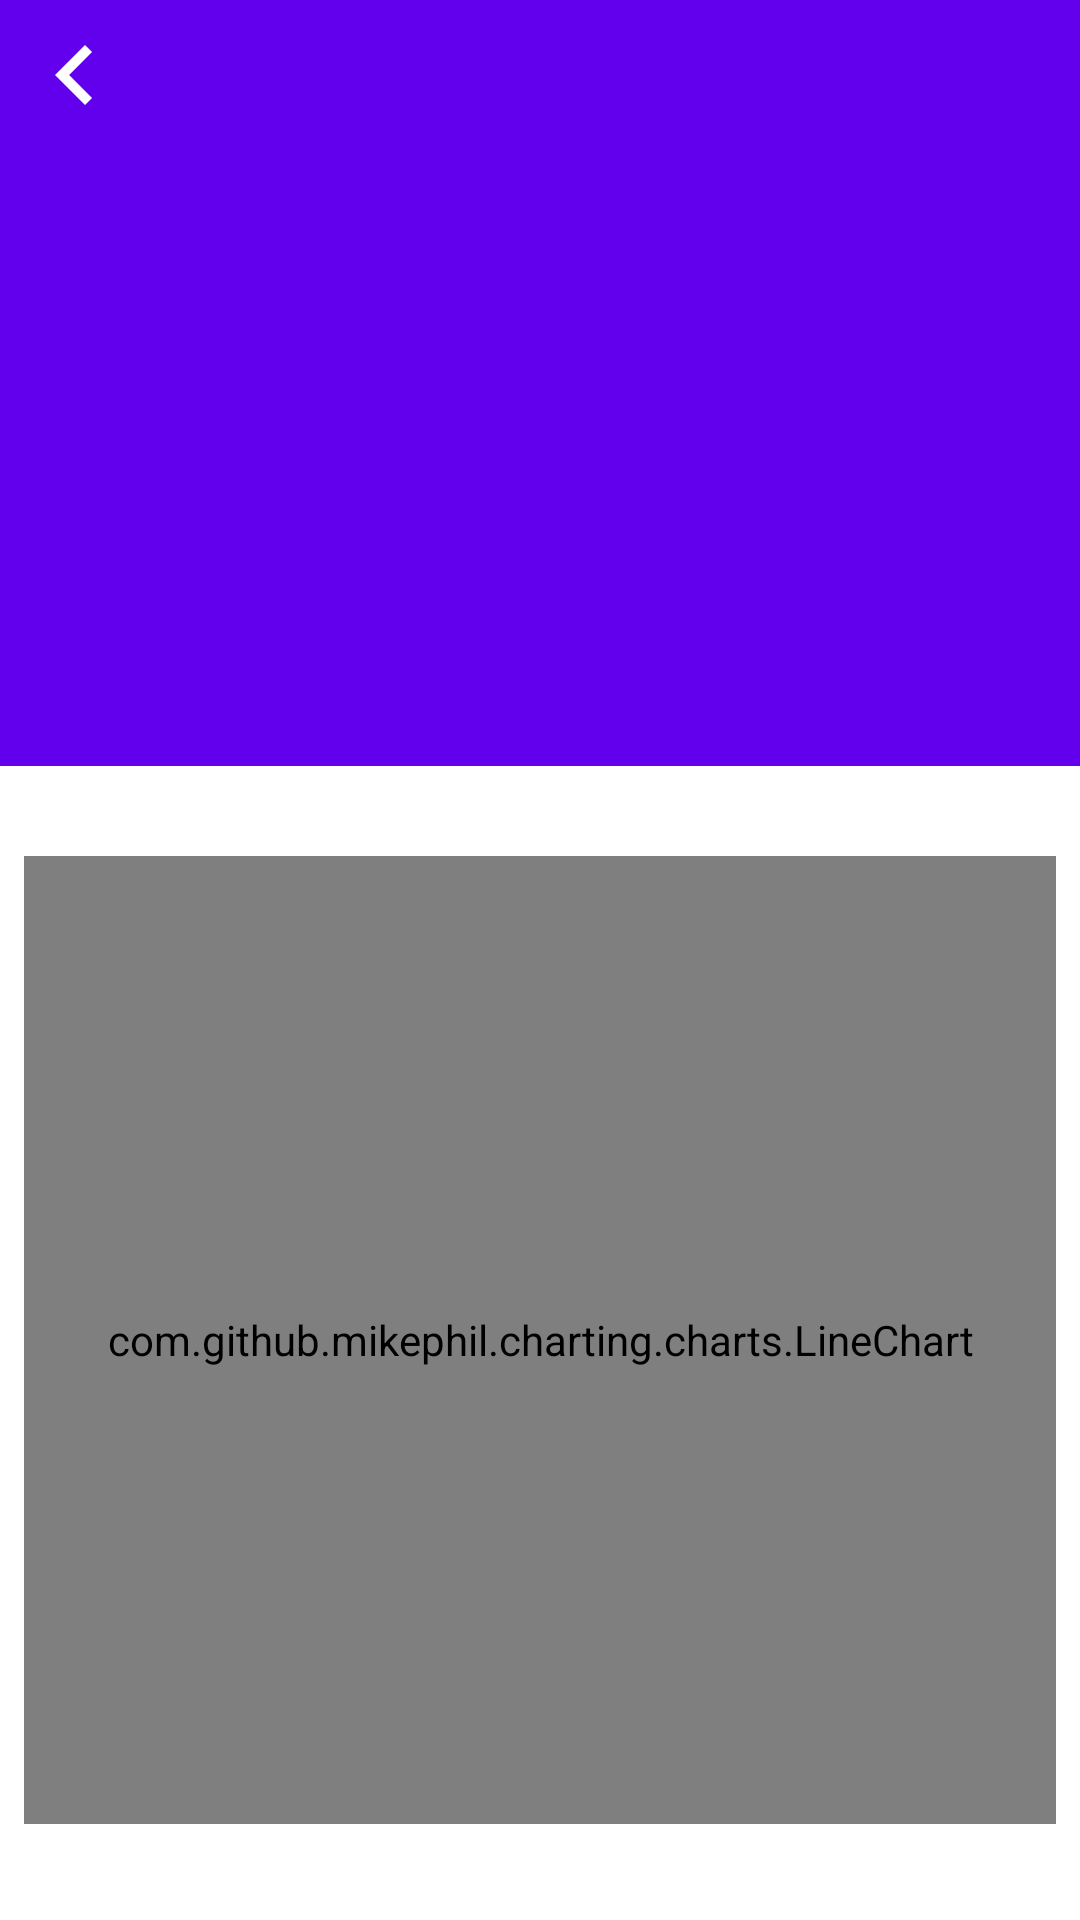

Icon bounding boxes for this 1080 × 1920 phone screenshot, format (x1=x1, y1=y1, x2=x2, y2=y2):
chevron left: (x1=55, y1=45, x2=92, y2=105)
